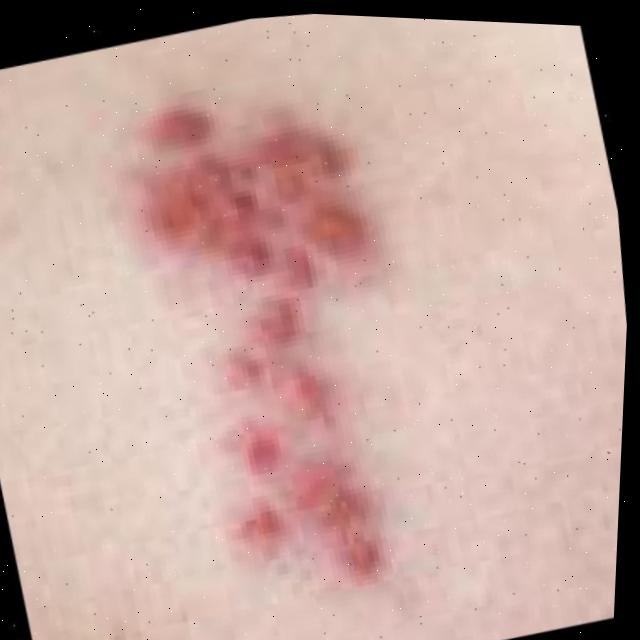Shingles: (110, 71, 442, 614)
